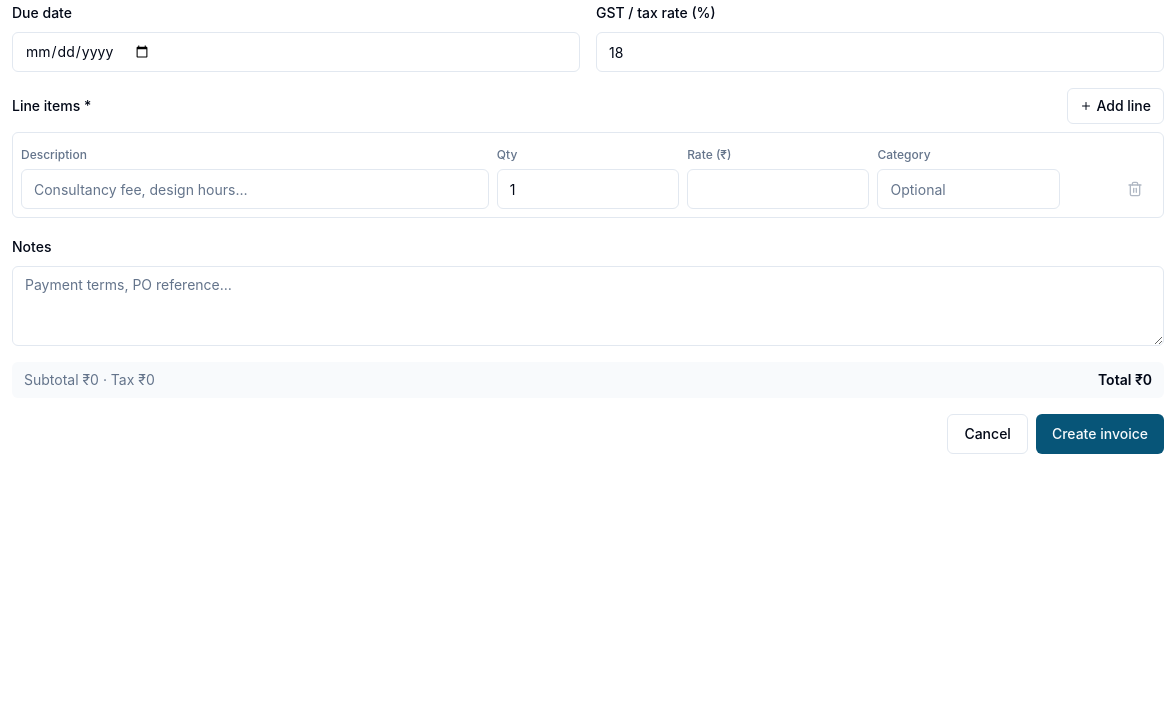
Scenario: InvoiceCreateForm › adds and removes line items
Expected: the number of fields with placeholder "Consultancy fee, design hours…" is 1, 21,169 -> 489,209
Click the button "Add line" at (1116, 106), box 1067,88 -> 1164,124
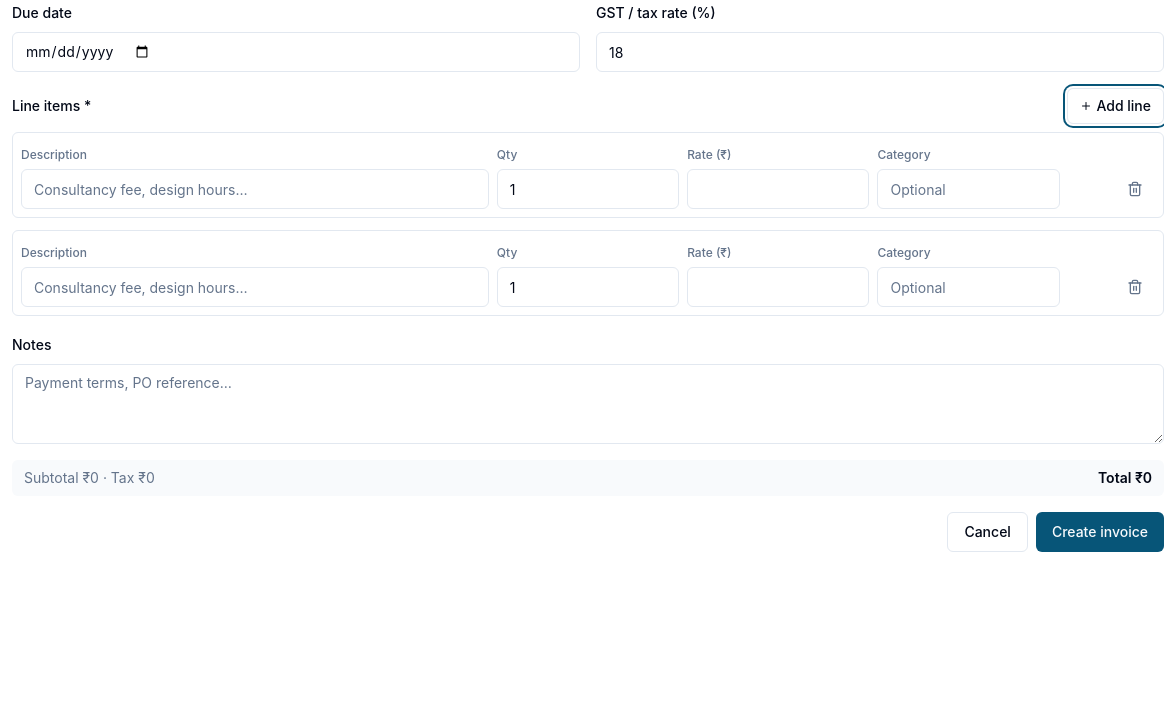
Result: the number of fields with placeholder "Consultancy fee, design hours…" is 2 at 21,169 -> 489,209; 21,267 -> 489,307
Click the 2nd button named "remove line" at (1135, 287), box 1115,269 -> 1155,305
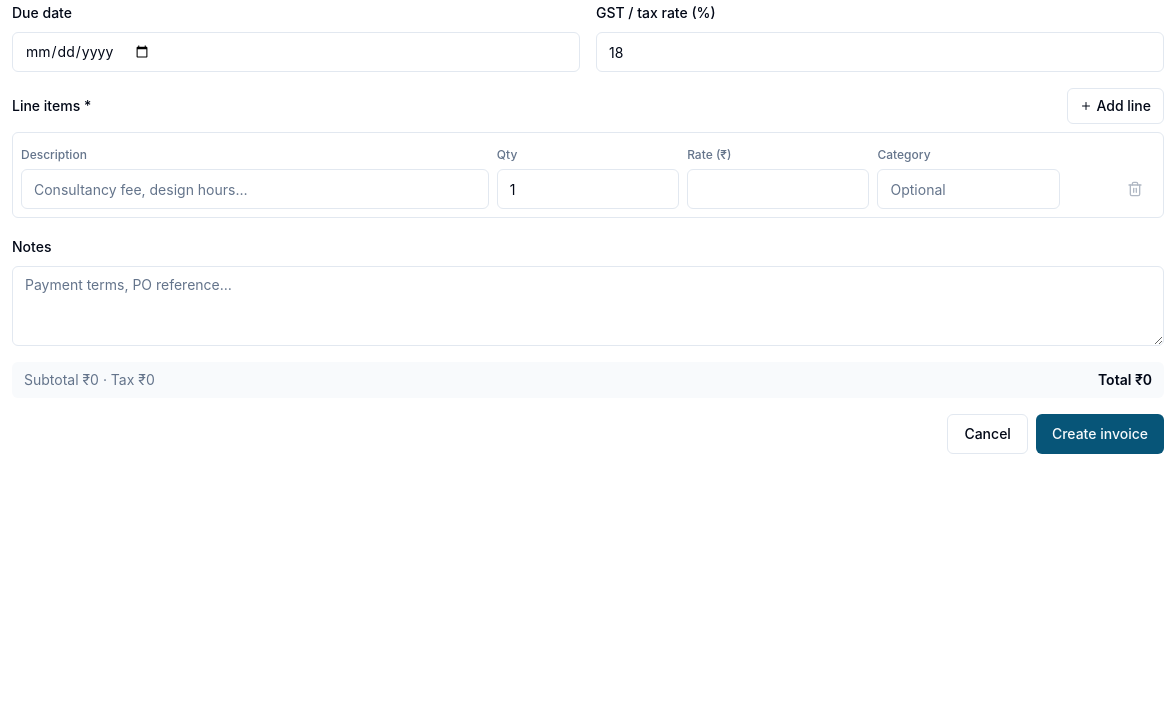
Result: the number of fields with placeholder "Consultancy fee, design hours…" is 1 at 21,169 -> 489,209
